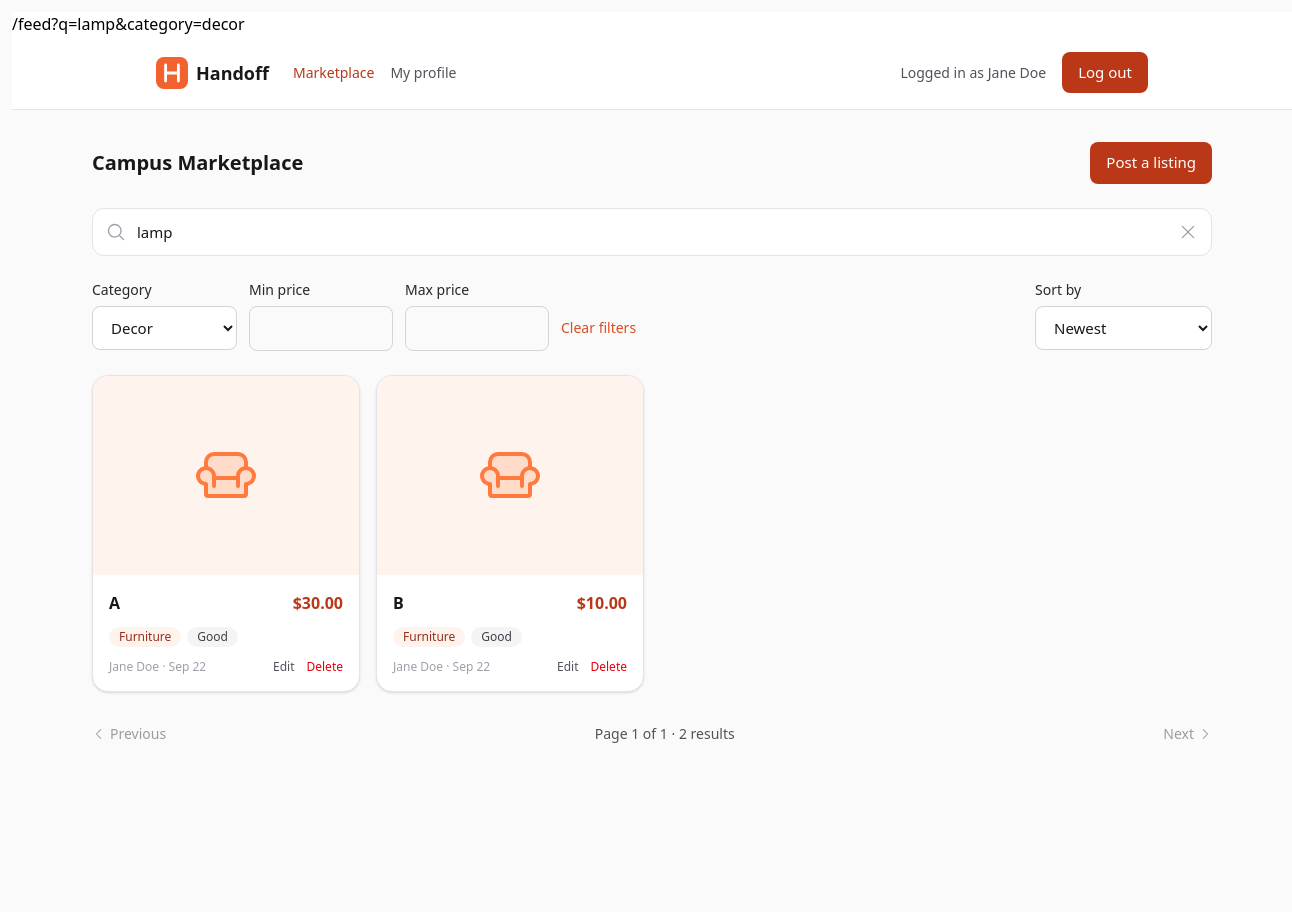
FeedPage › sorting keeps the keyword and category and reorders immediately
Check: the link "A" is shown, box top-left (109, 592), bottom-right (120, 614)
Select "Price: Low to High" in the dropdown labelled "Sort by" at (1124, 328), box top-left (1035, 306), bottom-right (1212, 350)
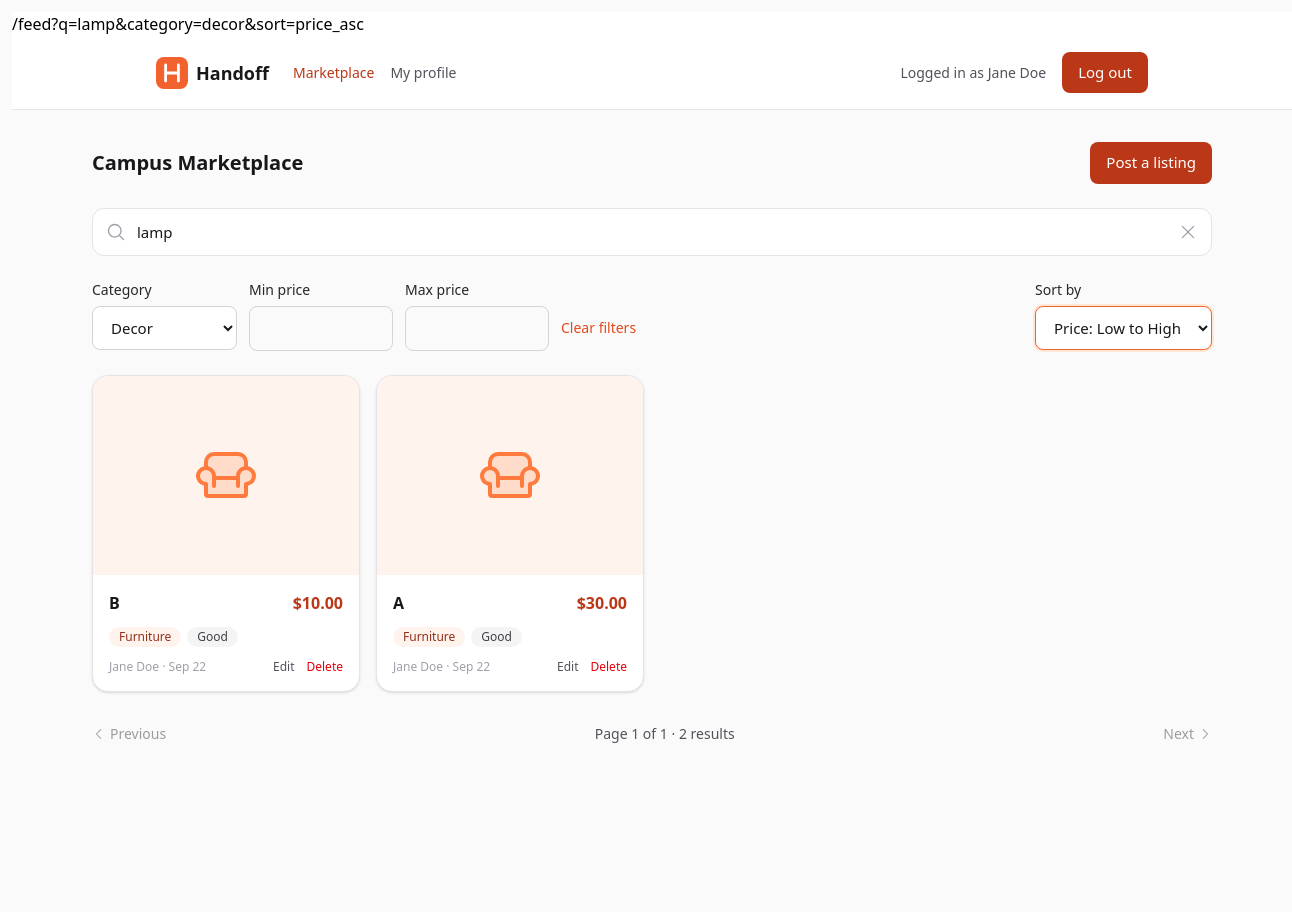
Check: the text with test id "location" shows "q=lamp", box top-left (12, 13), bottom-right (364, 35)
Check: the text with test id "location" shows "sort=price_asc", box top-left (12, 13), bottom-right (364, 35)
